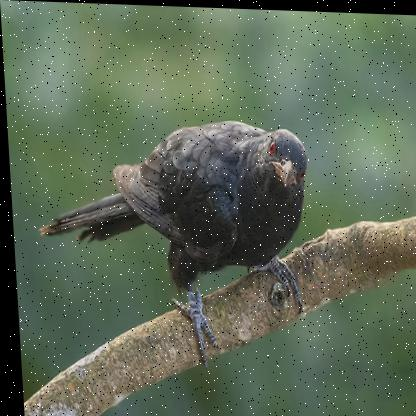Burung: (30, 111, 316, 370)
